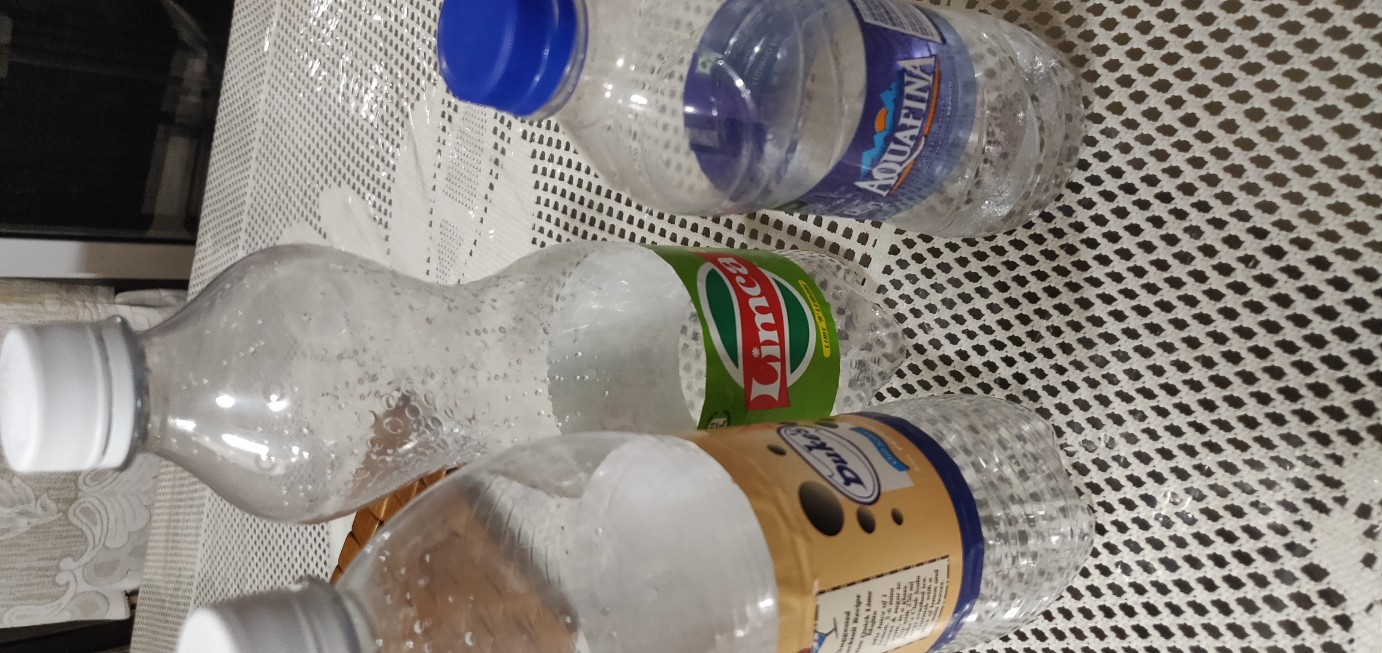Electronics: (2, 219, 923, 538), (147, 377, 1112, 653), (404, 5, 1113, 260)
